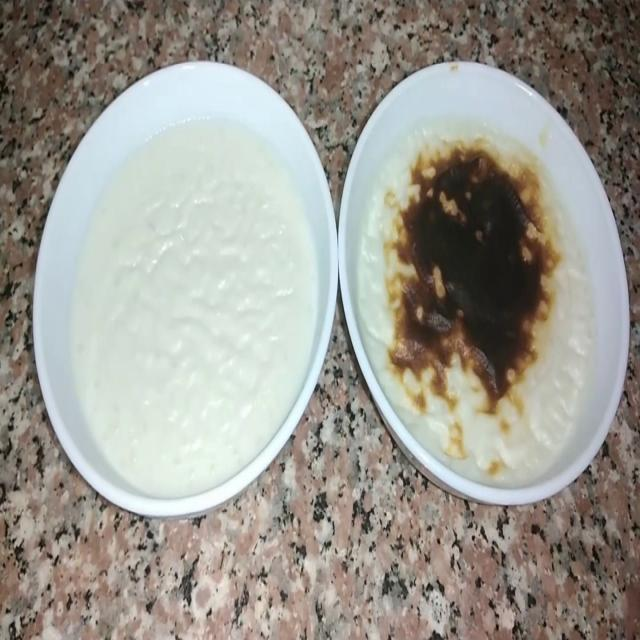roz blabn: (67, 116, 323, 510)
